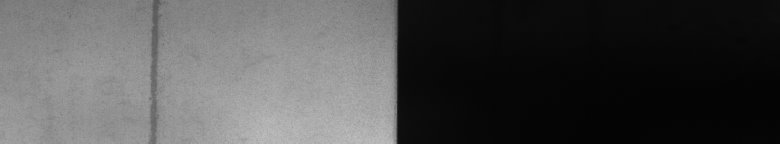hd: (142, 4, 164, 136)
